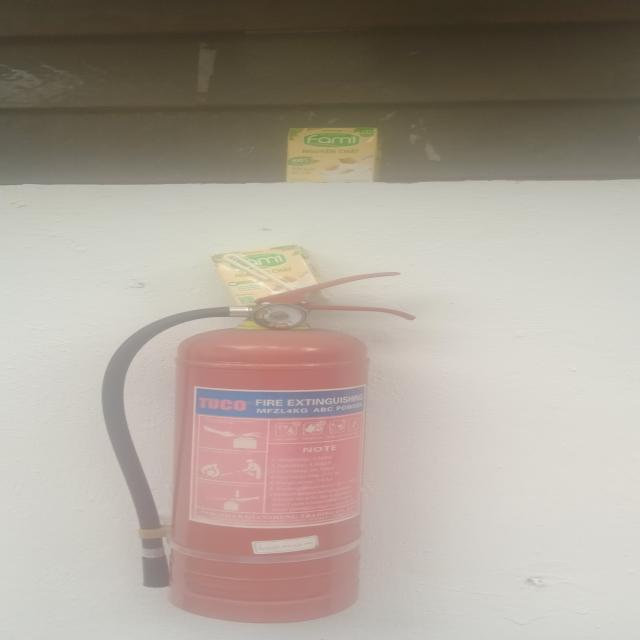Fami: (208, 246, 317, 304), (278, 128, 388, 184)
